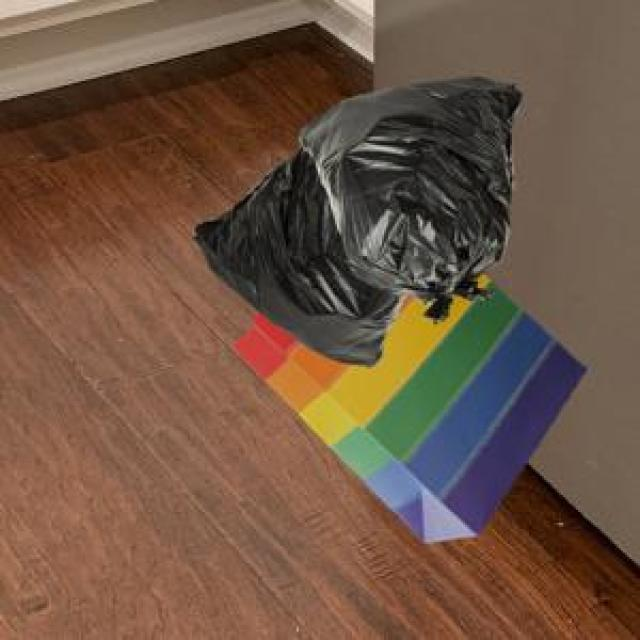miscellaneous trash: (297, 73, 516, 320), (190, 143, 403, 363)
paper: (230, 271, 582, 538)
